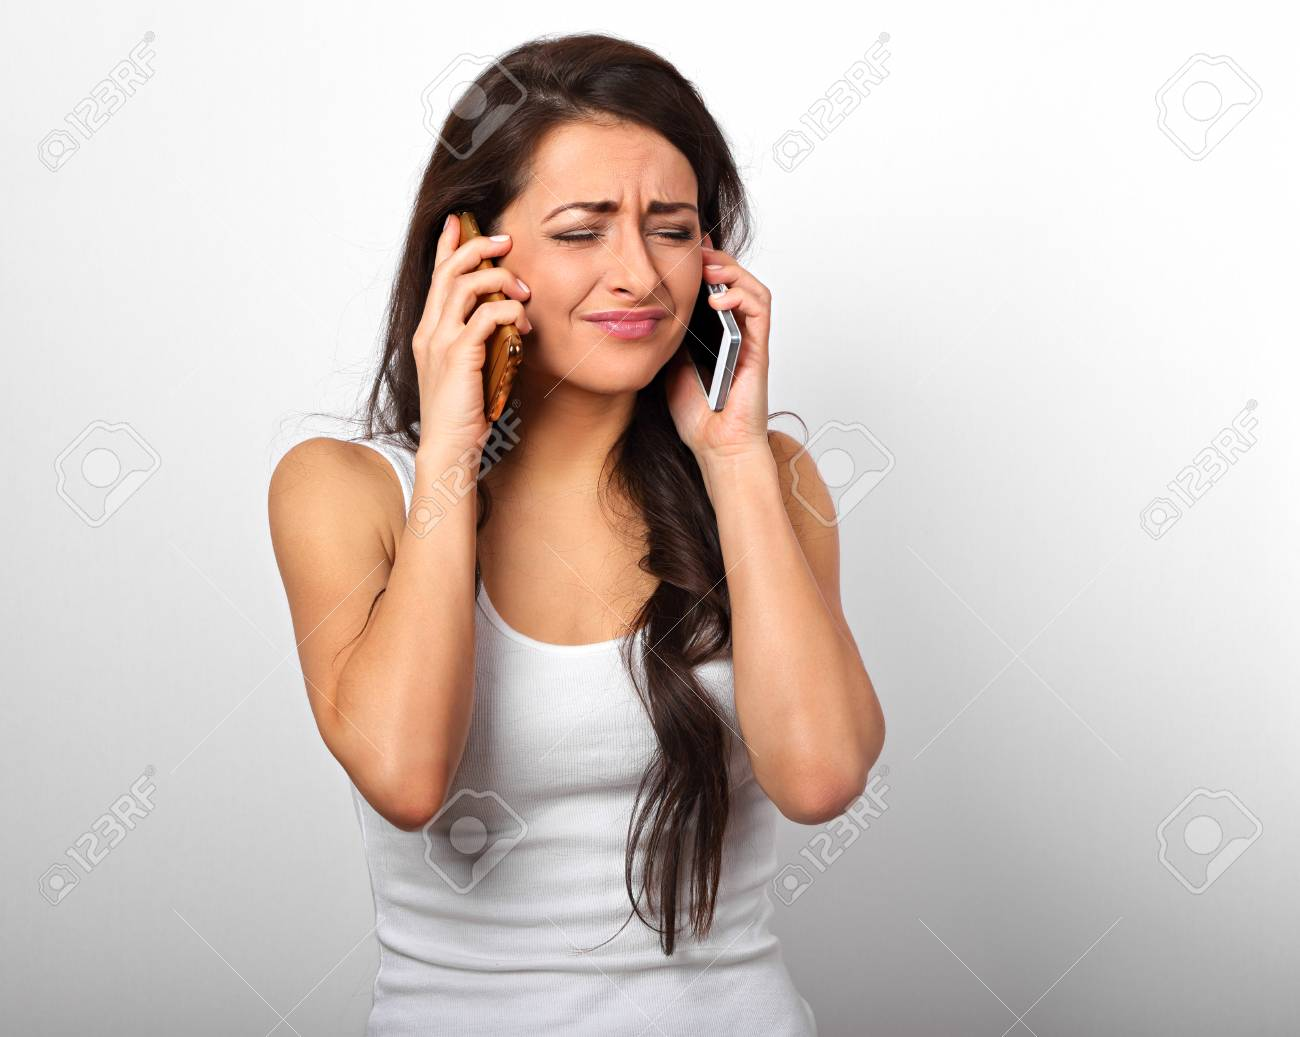phone: (454, 208, 525, 427), (691, 266, 743, 410)
talk: (411, 195, 701, 486), (533, 195, 776, 492)
